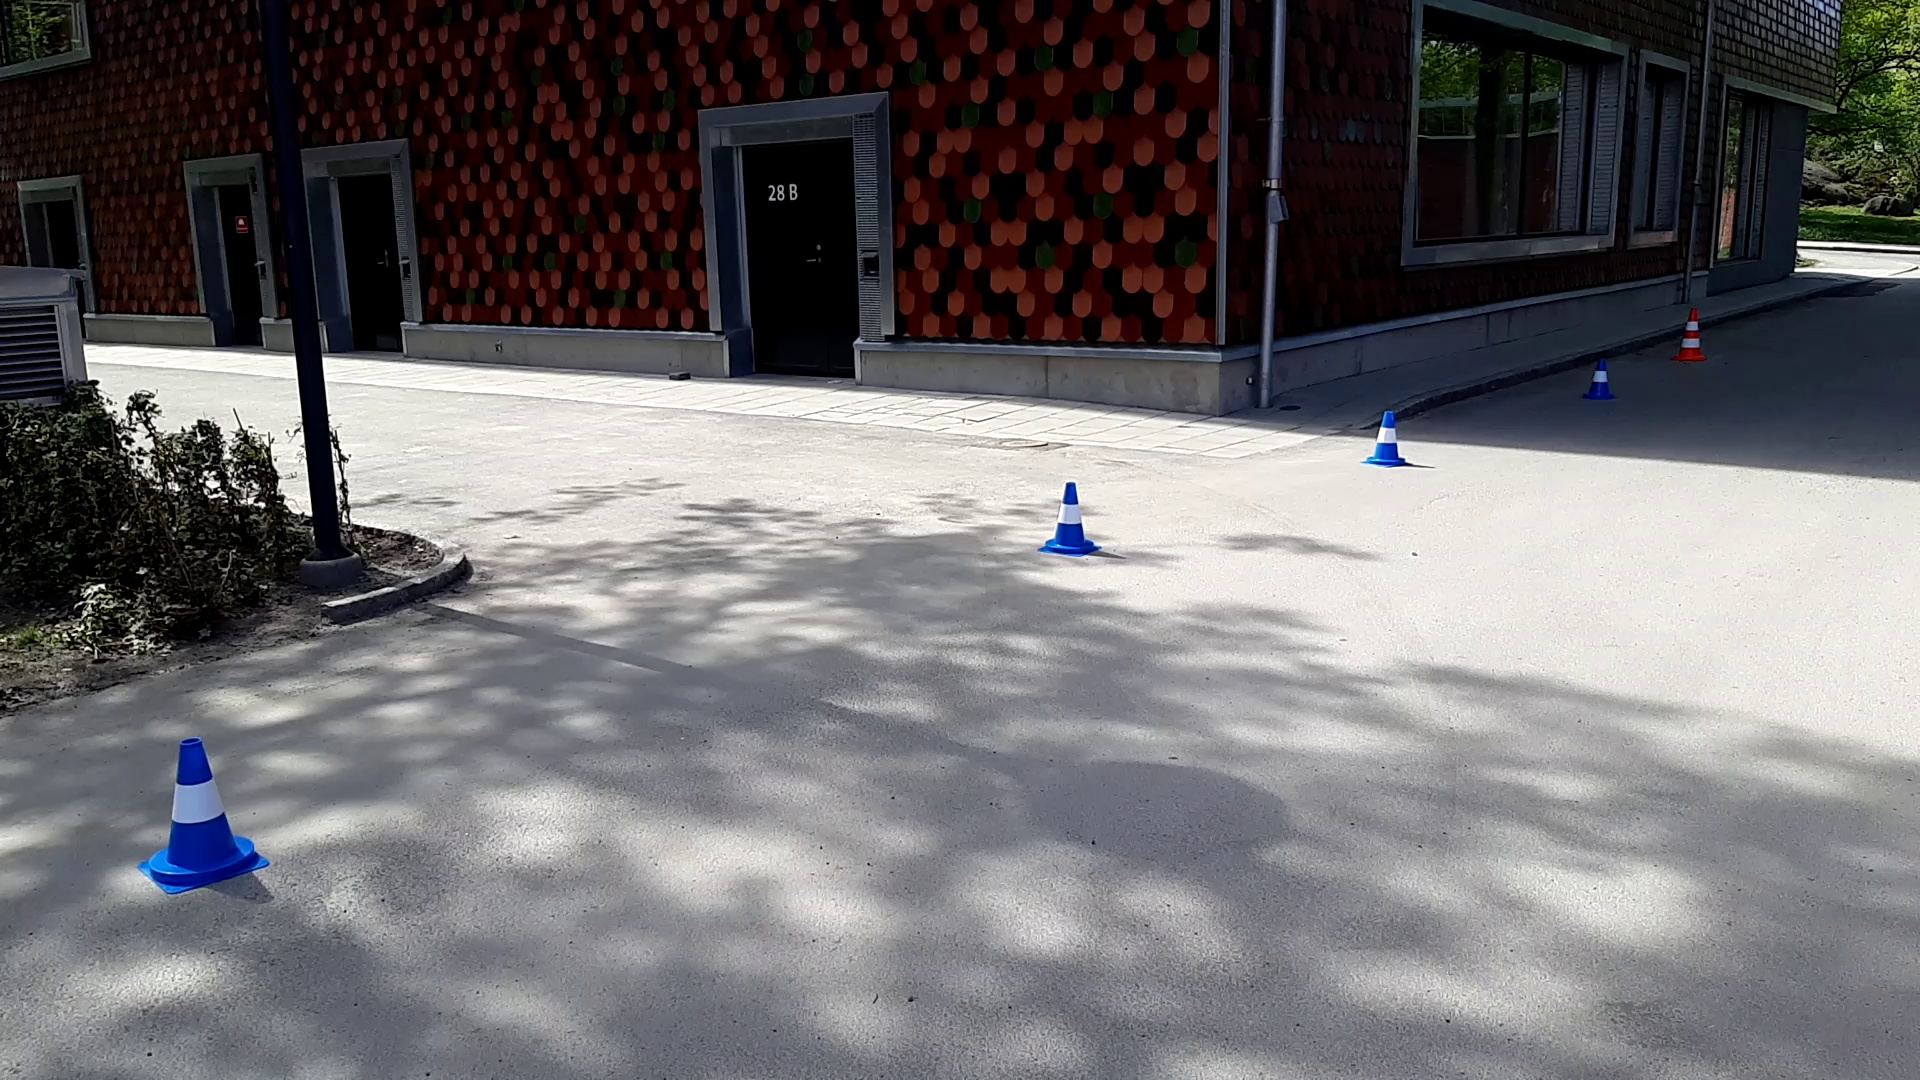Cone: (145, 736, 260, 899), (1040, 483, 1098, 559), (1672, 305, 1712, 367), (1366, 407, 1408, 465), (1581, 359, 1615, 404)
